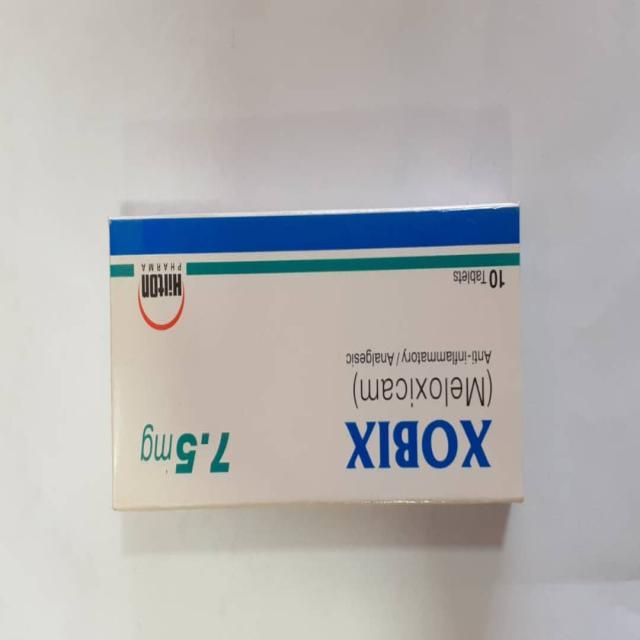drug-name: (343, 416, 497, 472)
